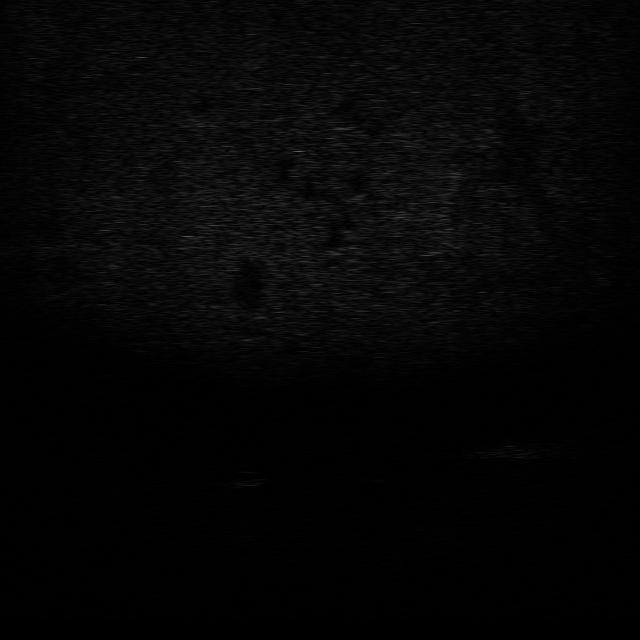ball: (228, 465, 272, 489)
human body: (460, 434, 554, 464)
